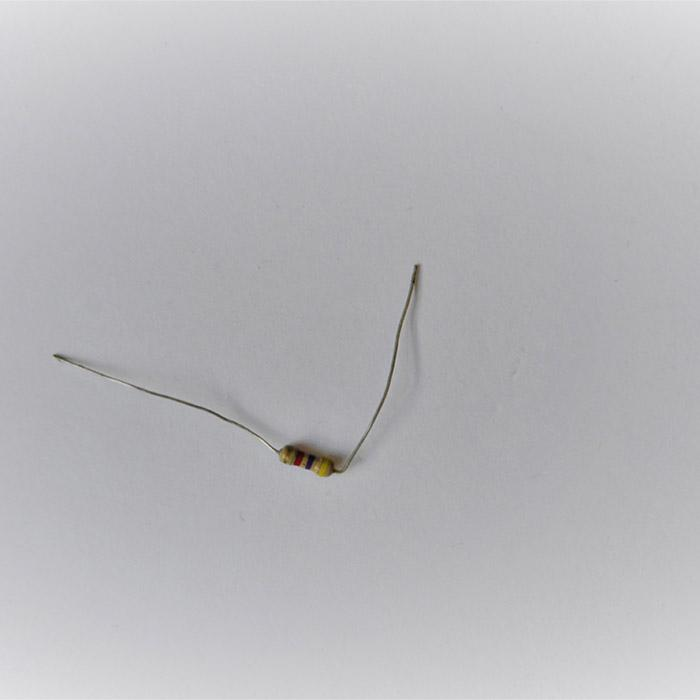resistor: (279, 443, 335, 477)
